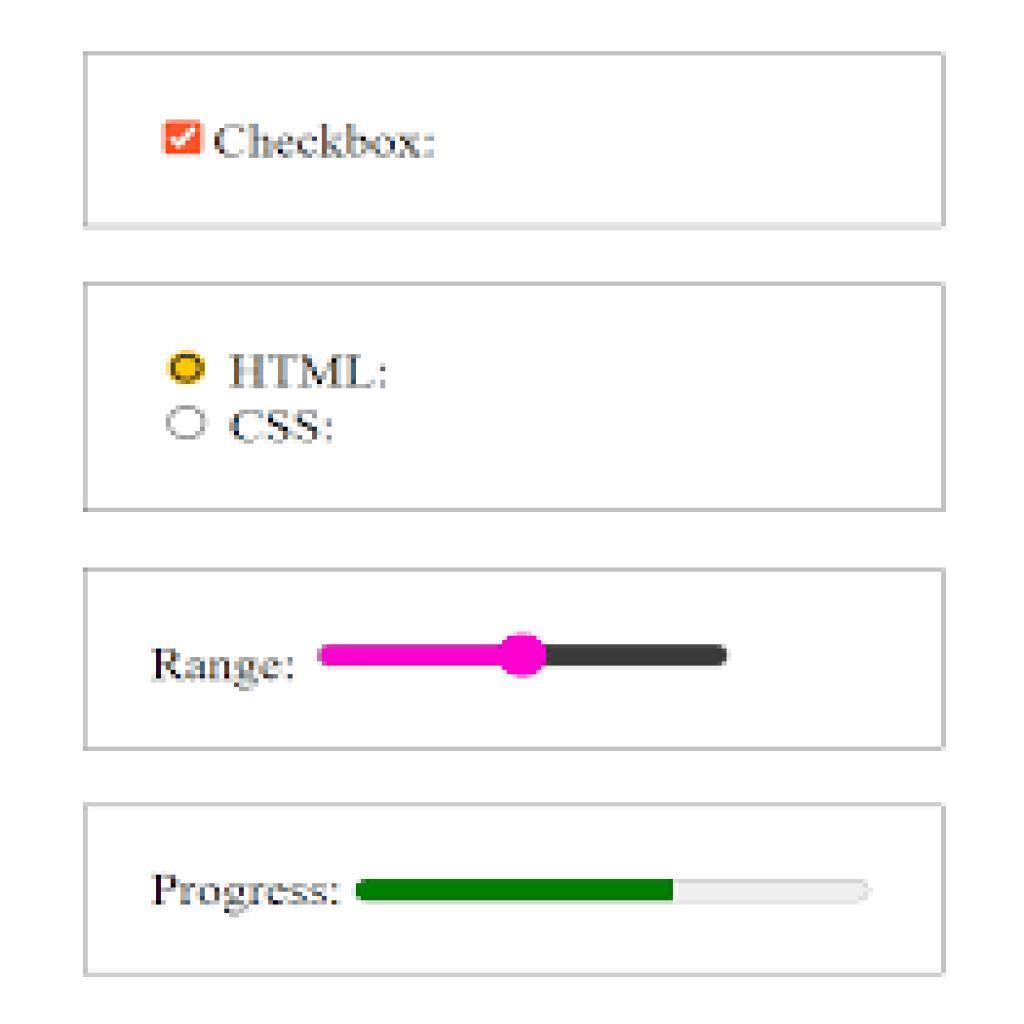checkbox: (165, 121, 202, 156)
radio: (164, 343, 213, 392), (163, 402, 216, 443)
slider: (353, 865, 884, 918), (313, 626, 738, 677)
